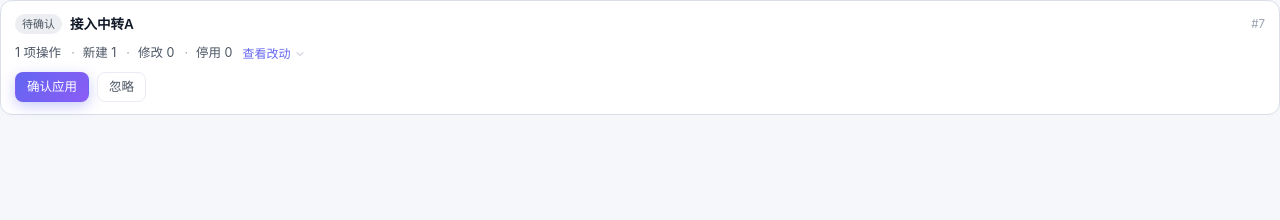
AgentProposalCard › 草稿态可以应用，应用成功后提示文档重算失败
Click the button with test id "agent-apply-7": {"x": 52, "y": 87} [15, 72, 89, 102]
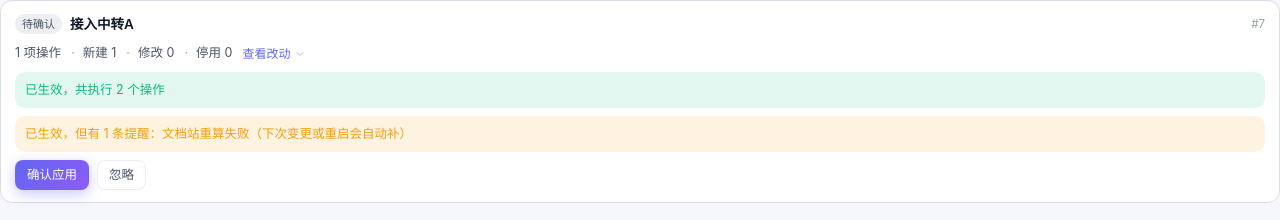
Expected: the text "已生效，但有 1 条提醒：文档站重算失败（下次变更或重启会自动补）" is shown, [15, 116, 1265, 152]
Expected: the text "已生效，共执行 2 个操作" is shown, [15, 72, 1265, 108]
